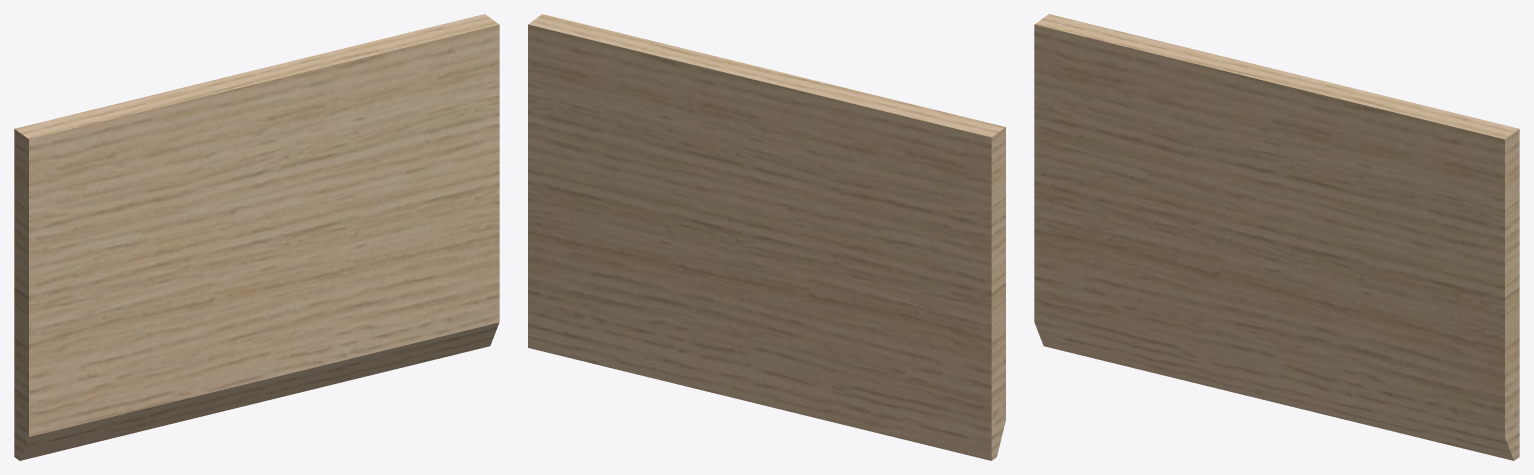
File: dor_S9_dor_venstre_2160.glb
3 renders of one model, left to right at view 1: azimuth 30°, elevation 25°; view 2: azimuth 150°, elevation 25°; view 3: azimuth 330°, elevation 25°, orthographic.
Size of the model in its own units: 356 by 237 by 19.
Materials: 1 (1 with a texture image).
